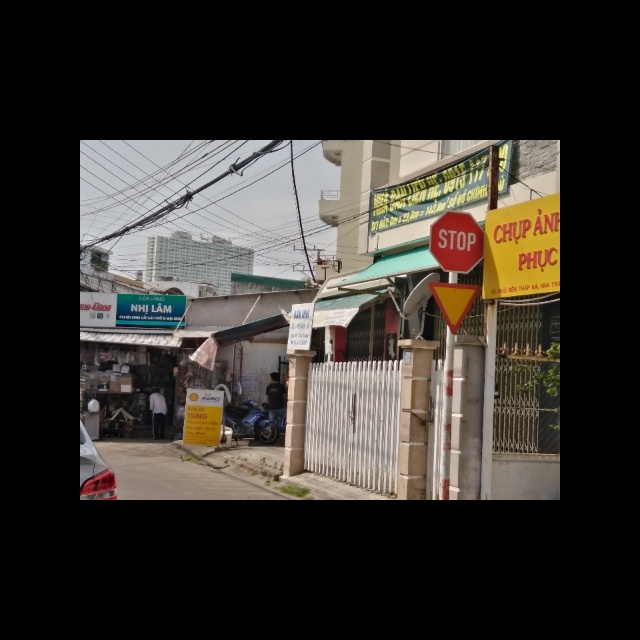Dừng lại: (431, 210, 484, 274)
Giao nhau với đường ưu tiên: (428, 281, 481, 334)
